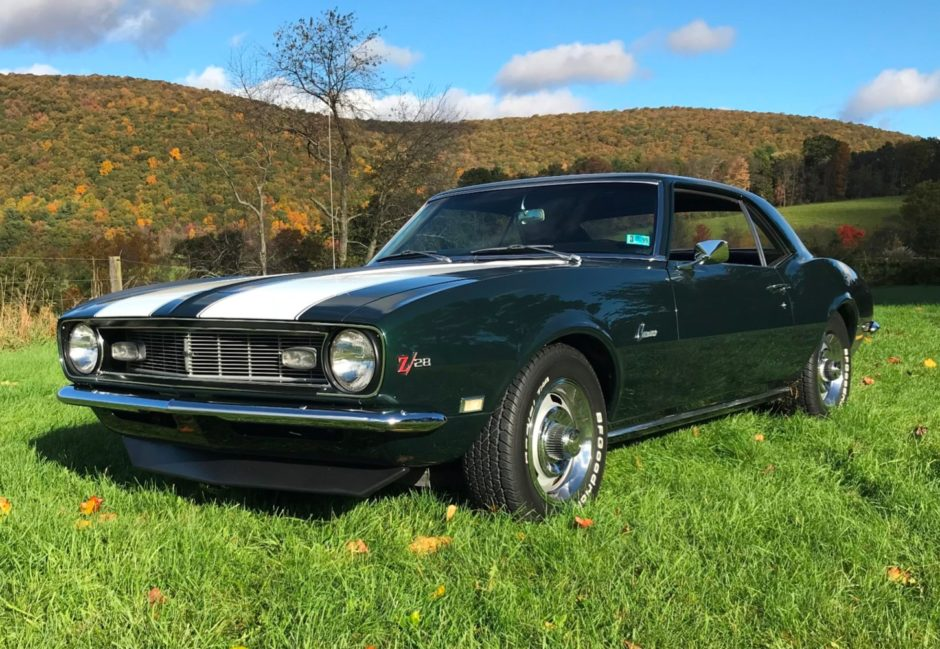car: (51, 171, 871, 522)
